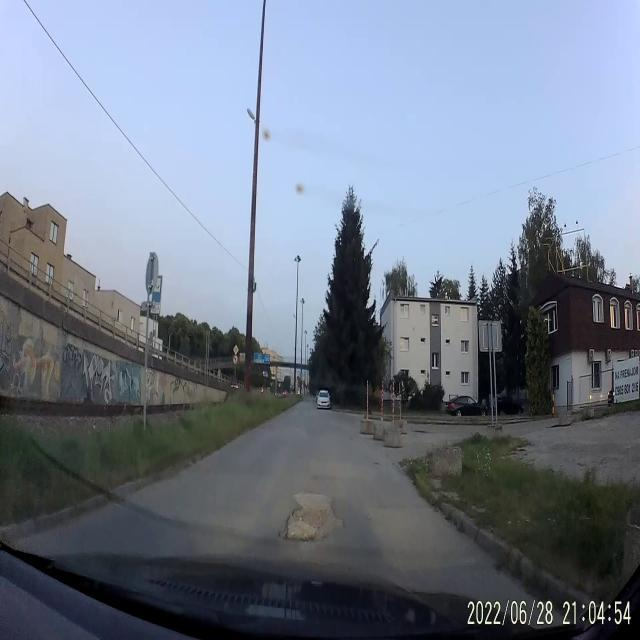Pothole: (277, 489, 345, 544)
